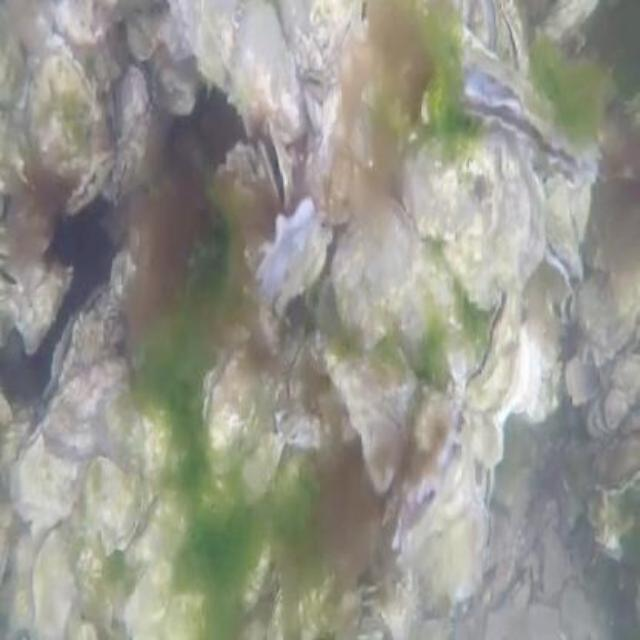Oyster-Closed: (400, 127, 546, 311), (9, 352, 134, 530), (333, 196, 459, 364), (317, 336, 423, 488), (229, 0, 314, 146), (27, 35, 105, 186), (204, 348, 269, 473), (167, 0, 246, 86), (277, 0, 358, 79), (85, 457, 143, 552), (286, 330, 332, 410), (116, 57, 149, 140), (542, 523, 574, 594), (269, 589, 310, 638), (470, 0, 499, 50), (566, 360, 600, 402), (607, 389, 628, 433)
Oyster-Open: (454, 83, 600, 174), (44, 282, 126, 399), (260, 197, 326, 312), (464, 284, 522, 408), (392, 473, 444, 561), (545, 177, 582, 292), (455, 54, 524, 110), (257, 122, 295, 215), (67, 148, 115, 215), (442, 405, 473, 490), (496, 0, 528, 72), (478, 504, 494, 563), (561, 288, 577, 328), (479, 468, 495, 506)
